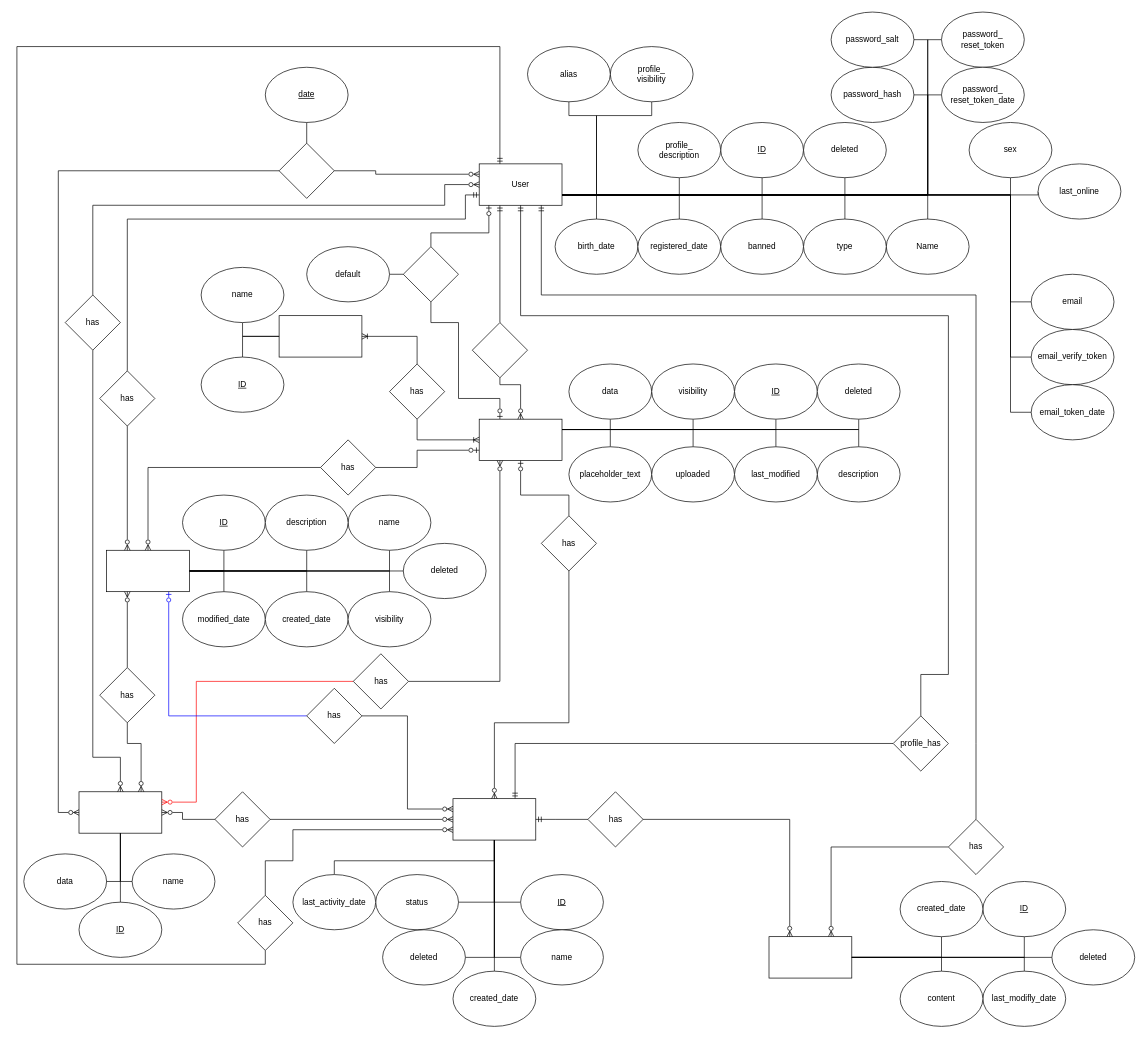
The diagram is 1147 pixels wide and 1039 high, and some of its shapes have lost their labels. Here are the shapes that lost their labels. From the top down, the centre of each, then its label:
the point at 306,170: made
the point at 431,274: has_ avatar_ pic
the point at 320,336: tag
the point at 500,350: uploads
the point at 520,439: media
the point at 147,571: carousel
the point at 120,812: reaction
the point at 494,819: thread
the point at 810,957: comment
